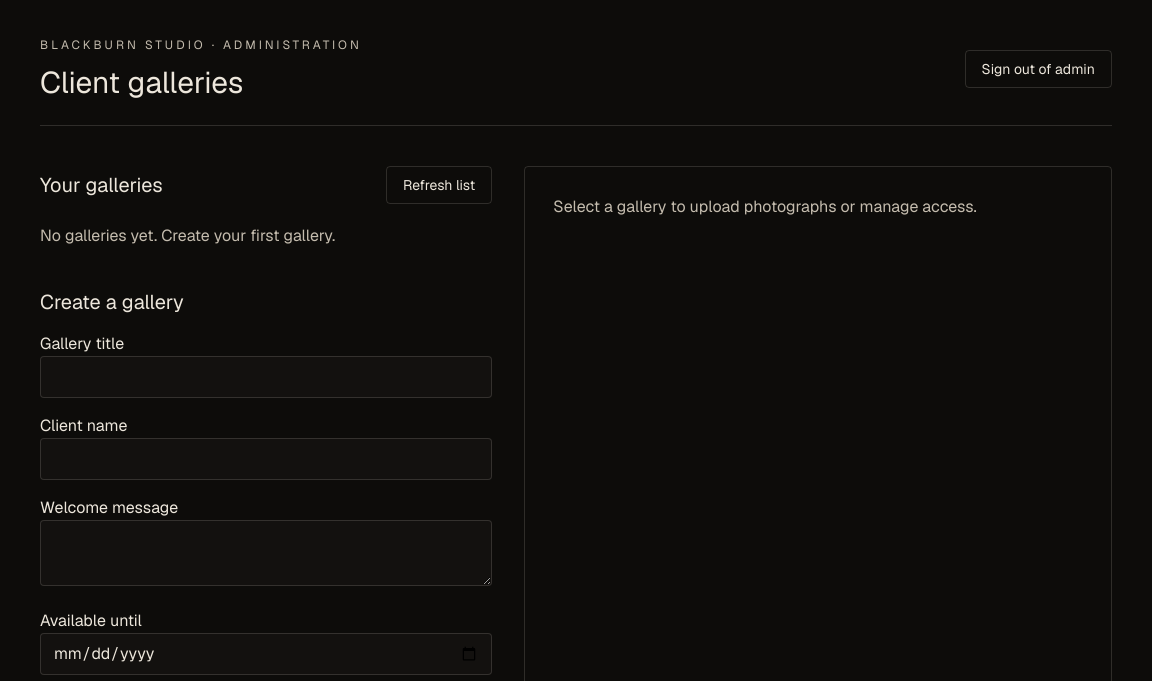
Scenario: offers manual copying when browser clipboard access is denied
Check: the heading "Create a gallery" is shown, box [40,289,184,315]
Step 1. Type "Portraits" into the field labelled "Gallery title" → (266, 377), box [40,356,492,398]
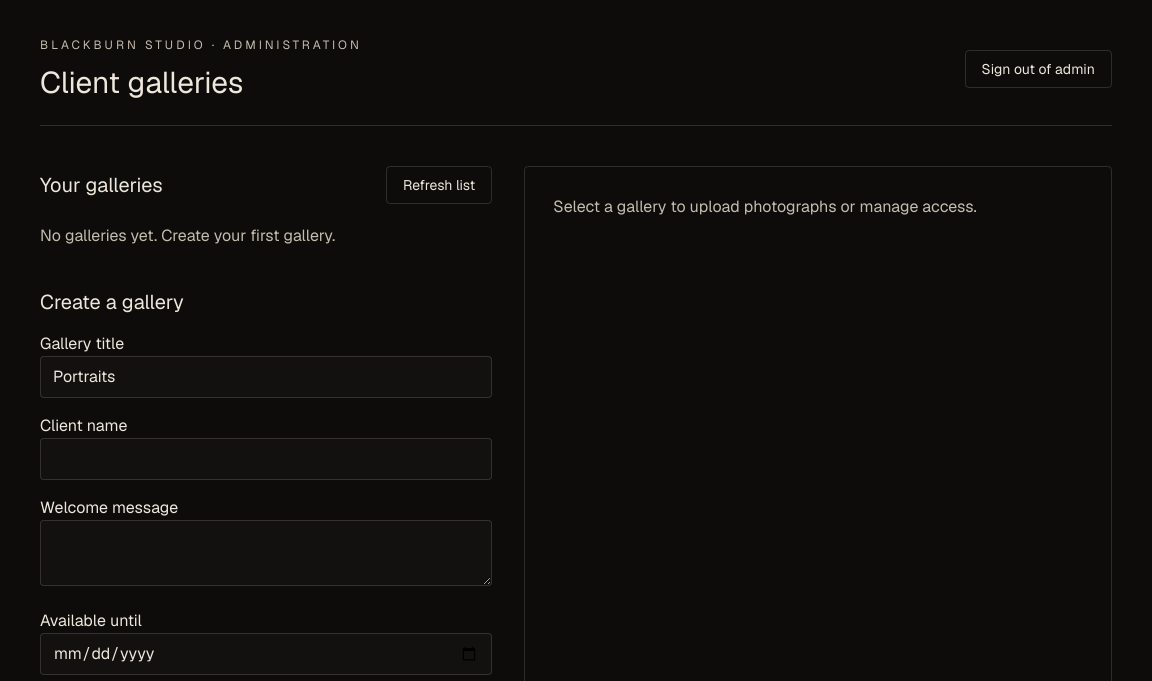
Step 2. Type "2026-11-01" into the date field labelled "Available until" → (266, 654), box [40,633,492,675]
(page scrolled)
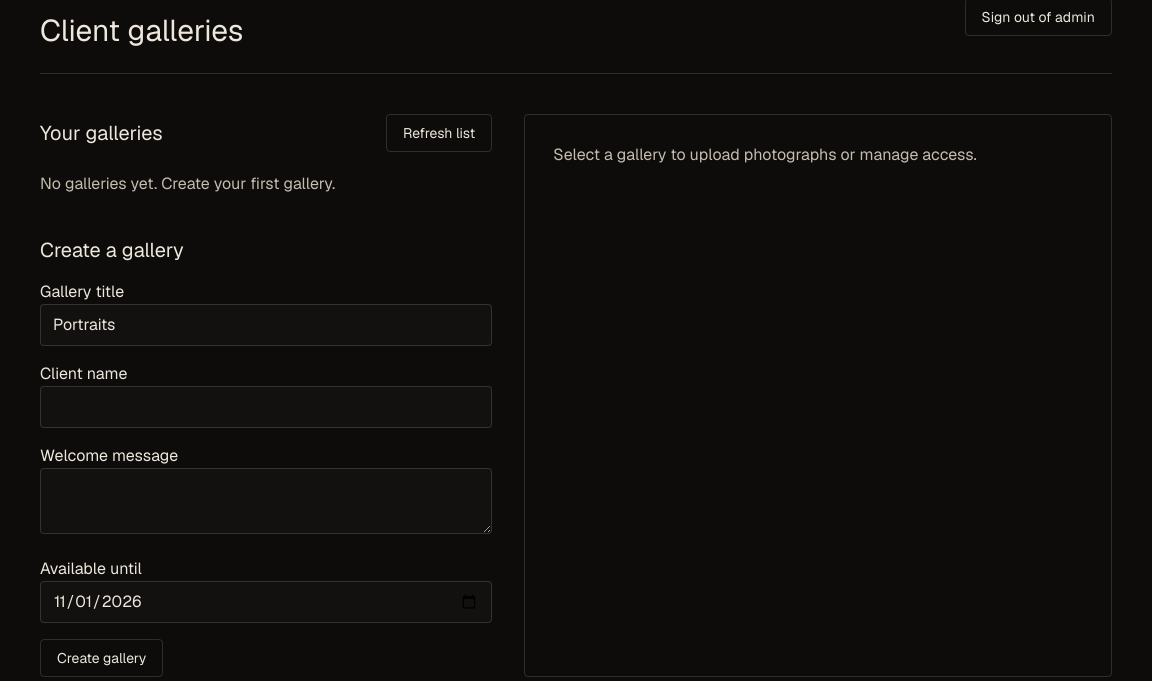
Step 3. Click the button "Create gallery" → (102, 658), box [40,639,163,677]
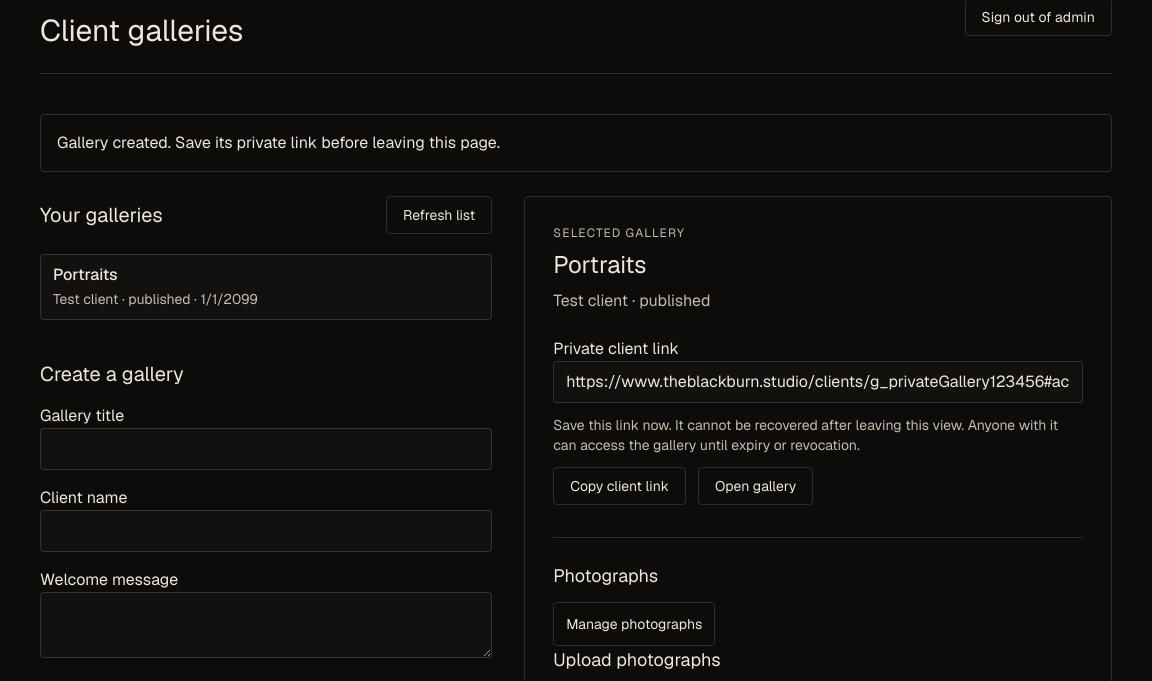
Check: the field labelled "Private client link" is shown, box [553,361,1083,403]
Step 4. Click the button "Copy client link" → (620, 486), box [553,467,686,505]
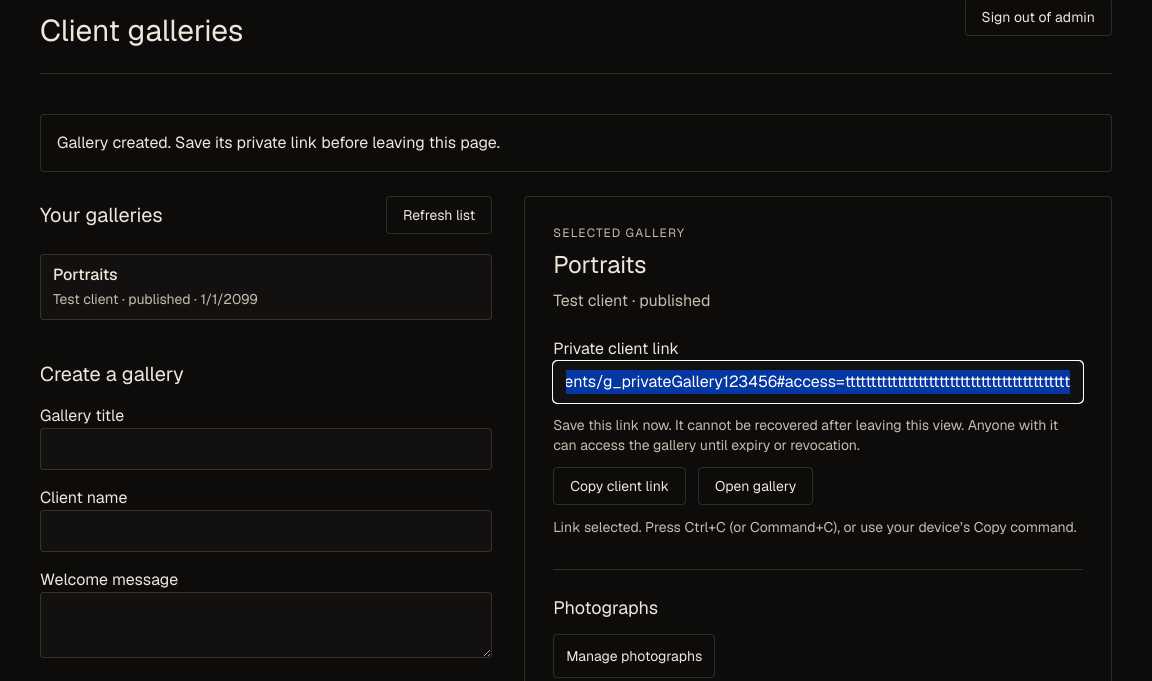
Check: the button "Refresh list" is enabled, box [386,196,492,234]
Check: the text "Link selected. Press Ctrl+C (or Command+C), or use your device’s Copy command." is shown, box [553,517,1083,537]
